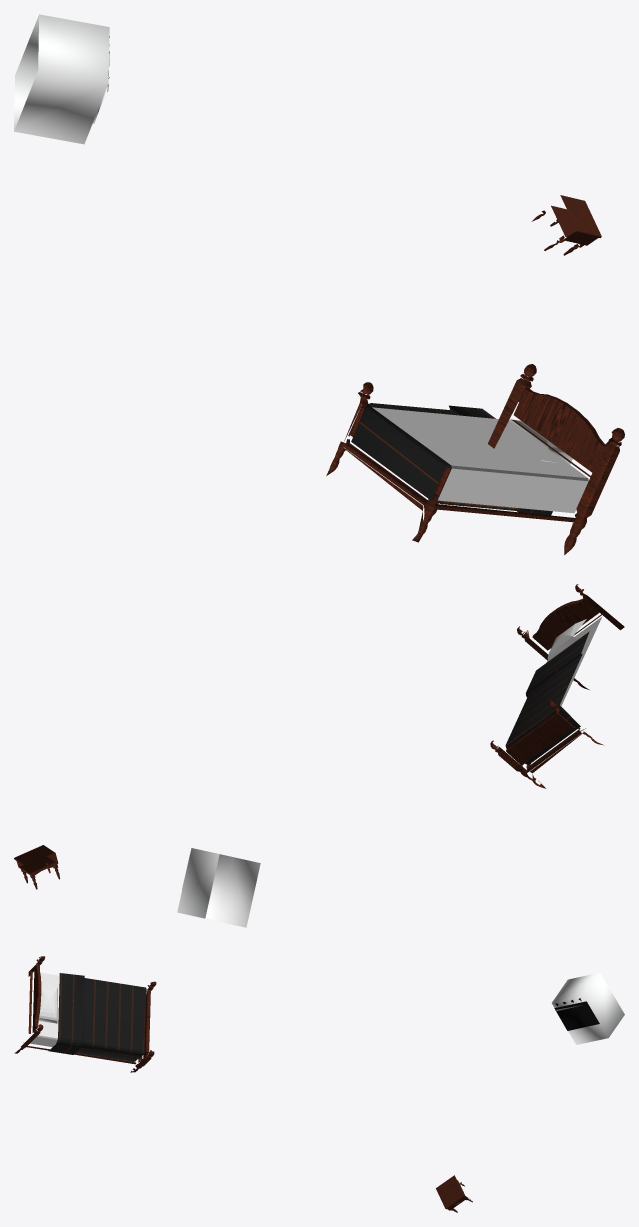
Rendered from threeJsSceneNormalFloating.glb.
The picture shows the model from 3 angles, top to bottom: view 1: azimuth 30°, elevation 25°; view 2: azimuth 150°, elevation 25°; view 3: azimuth 270°, elevation 25°; orthographic projection. The views are drawn at different scales.
Visible parts, largest first — view 1: object4, Oven, object1.001; view 2: object4, Oven, object1.001; view 3: object4, Oven, object1.001.
Boxes of the visible parts, left/top/right/bottom form: object4: left=326, top=364, right=624, bottom=554; Oven: left=14, top=14, right=109, bottom=144; object1.001: left=531, top=195, right=601, bottom=255; object4: left=490, top=584, right=624, bottom=788; Oven: left=177, top=848, right=260, bottom=927; object1.001: left=14, top=845, right=59, bottom=889; object4: left=14, top=956, right=156, bottom=1072; Oven: left=552, top=972, right=624, bottom=1044; object1.001: left=436, top=1175, right=472, bottom=1212.
Size of the model in its own units: 21.61 by 9.85 by 37.14.
3 materials, 3 textured.
